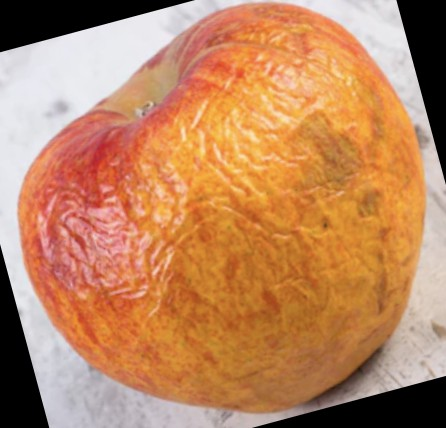rotten_apple: (17, 2, 426, 416)
